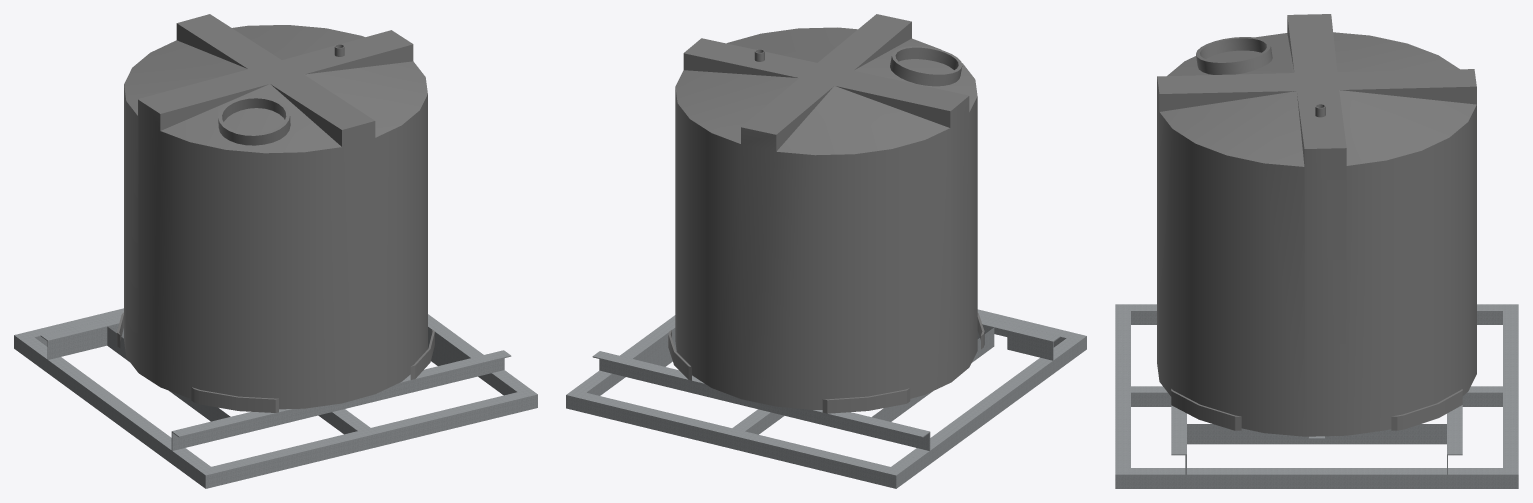
File: stage3_1.glb
The picture shows the model from 3 angles, left to right: view 1: azimuth 30°, elevation 25°; view 2: azimuth 150°, elevation 25°; view 3: azimuth 270°, elevation 25°; orthographic projection. The views are drawn at different scales.
Parts seen in each view (by area): view 1: aversol, object 1, object 2; view 2: aversol, object 1, object 2; view 3: aversol, object 1, object 2.
Part boxes in pixels (<box>): aversol: <box>124,14,427,409</box>; object 1: <box>14,308,537,488</box>; object 2: <box>117,312,434,412</box>; aversol: <box>675,14,977,409</box>; object 1: <box>566,309,1086,488</box>; object 2: <box>668,313,984,413</box>; aversol: <box>1157,14,1476,436</box>; object 1: <box>1115,304,1518,488</box>; object 2: <box>1171,389,1462,430</box>.
Bounding box in the file's own units: 1.8 × 1.63 × 1.8.
2 materials, 1 textured.
